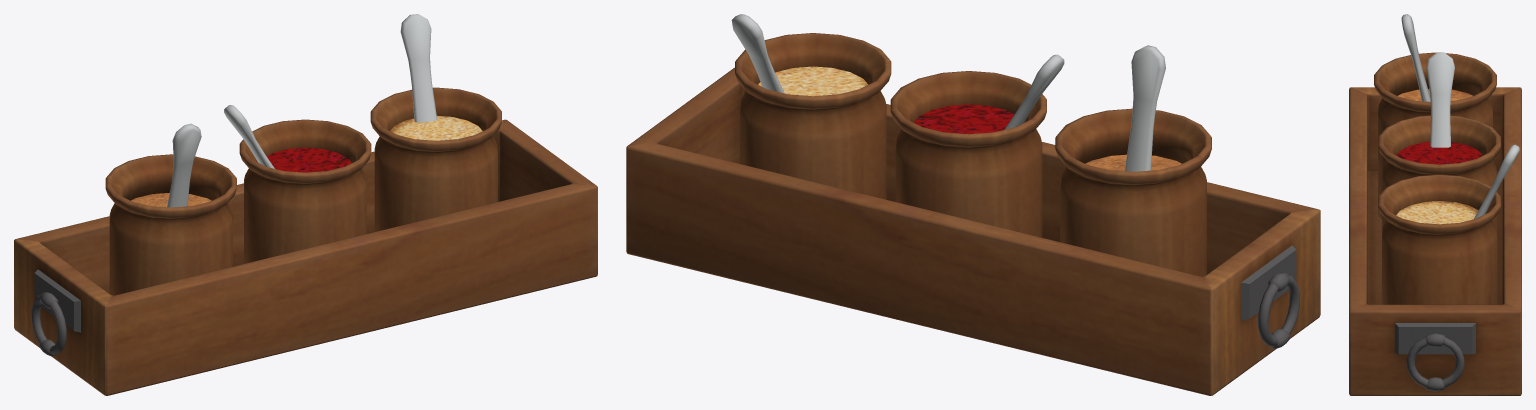
Rendered from GardenTableWear01_2.FBX.
3 views of the same model, side by side, from view 1: azimuth 30°, elevation 25°; view 2: azimuth 150°, elevation 25°; view 3: azimuth 270°, elevation 25° (orthographic). The views are drawn at different scales.
Parts seen in each view (by area): view 1: GardenTableWear01_2; view 2: GardenTableWear01_2; view 3: GardenTableWear01_2.
Part boxes in pixels (x1=…): GardenTableWear01_2: x1=14, y1=14, x2=597, y2=395; GardenTableWear01_2: x1=626, y1=14, x2=1320, y2=395; GardenTableWear01_2: x1=1349, y1=14, x2=1521, y2=395.
Size of what is drawn, in the model's own units: 0.4375 by 0.1764 by 0.1328.
